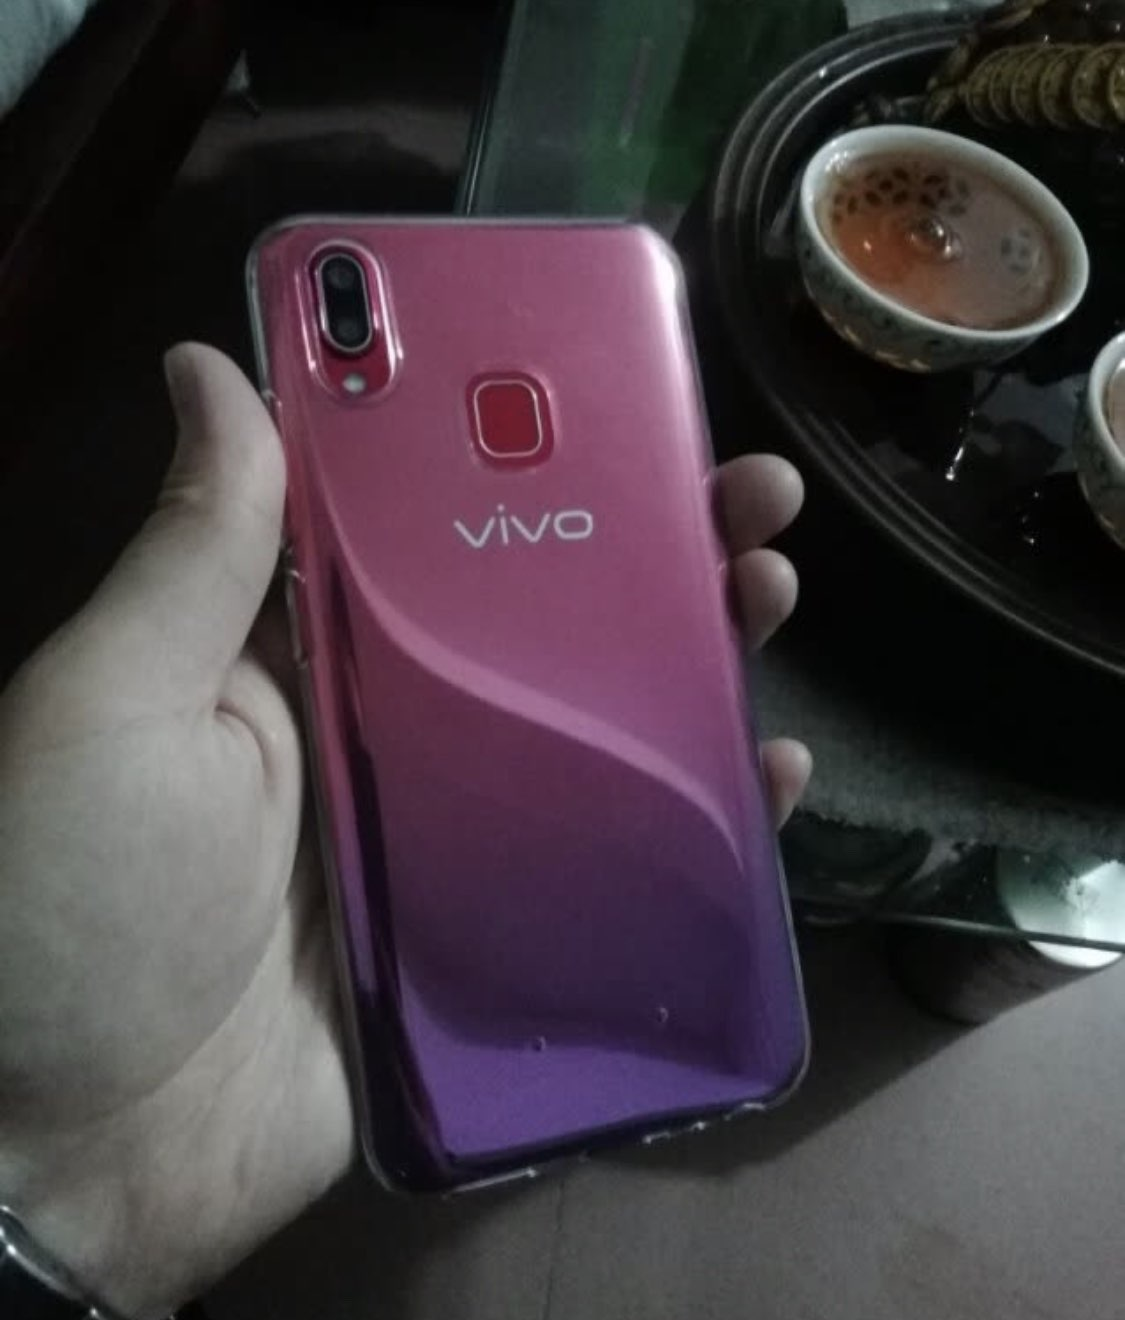mobil: (364, 208, 720, 1213)
